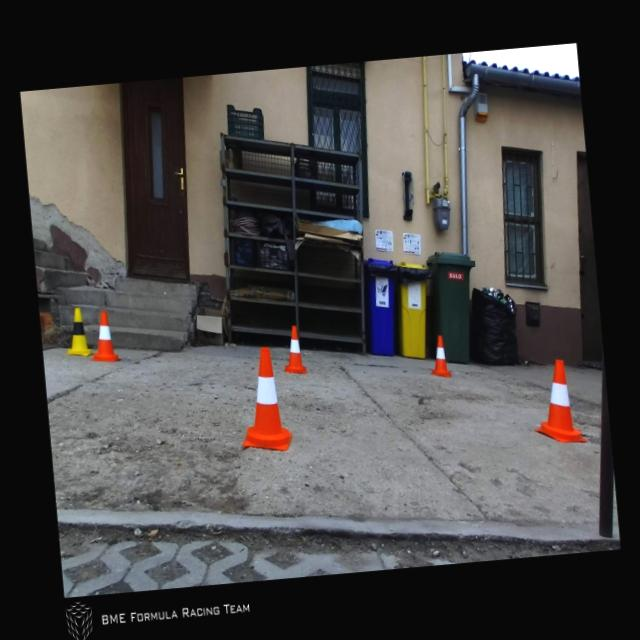orange_cone: (234, 344, 294, 454), (528, 357, 587, 446), (86, 308, 121, 364), (280, 324, 306, 374), (427, 334, 452, 378)
yellow_cone: (62, 306, 94, 358)
